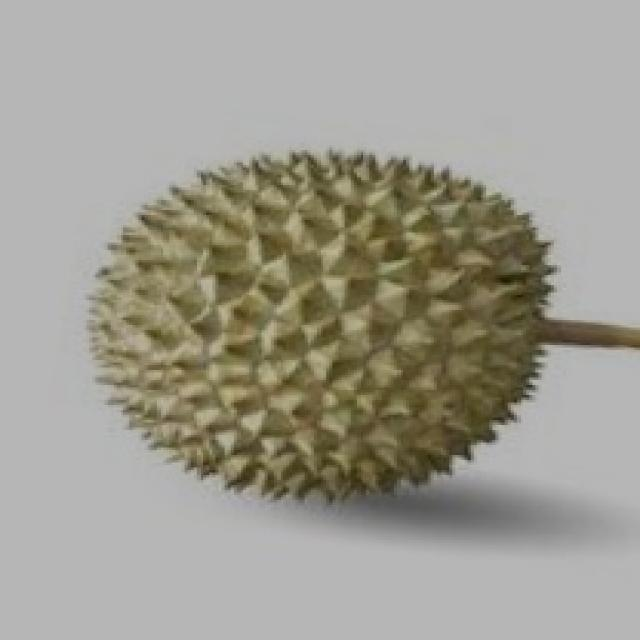fruit: (277, 125, 609, 563), (37, 185, 397, 577)
